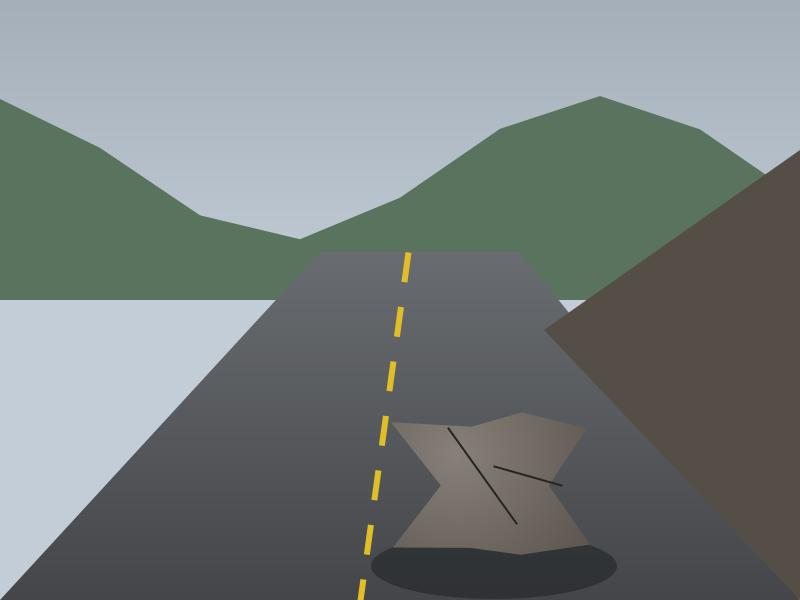ROAD_OBSTACLE: (381, 390, 607, 581)
